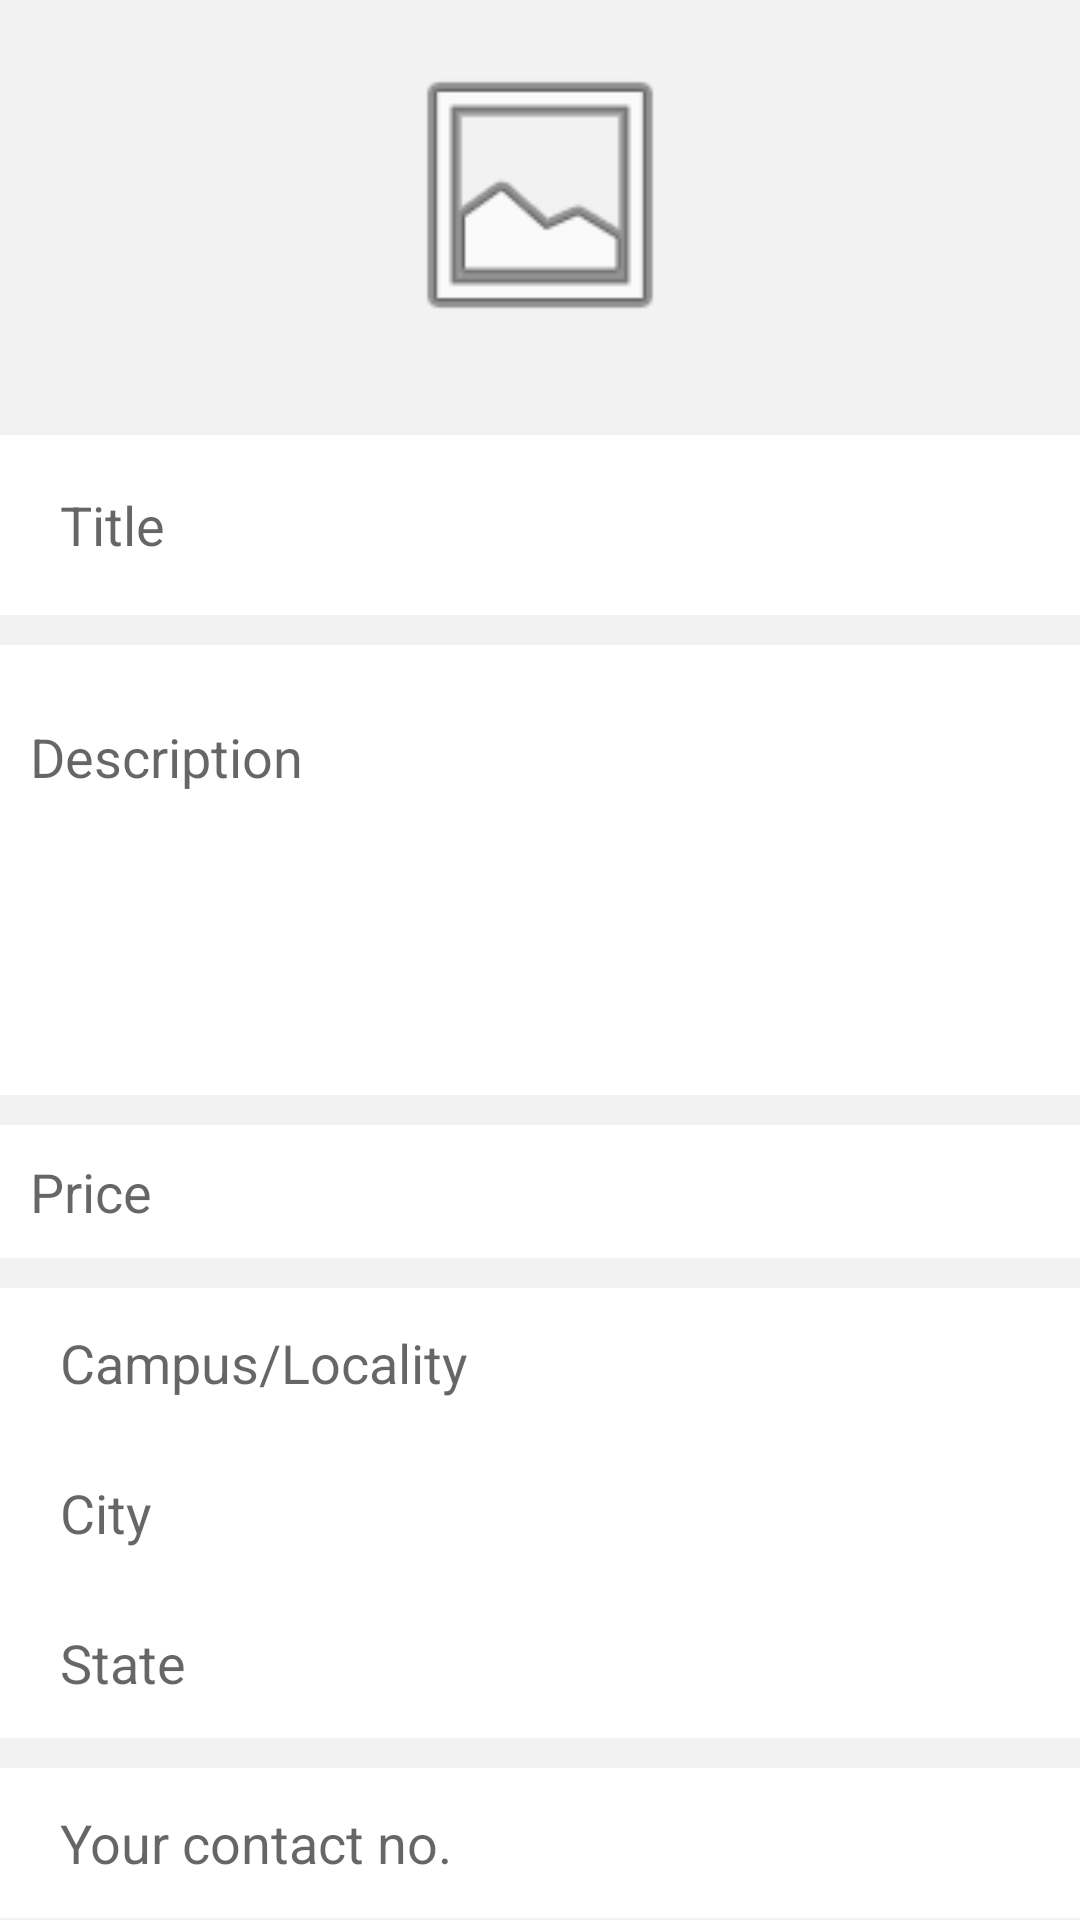

Locate icon controls on the screen. Image size 1080w x 1920h, boxes as (x1, y1, x2, y2).
gallery: (427, 82, 653, 308)
